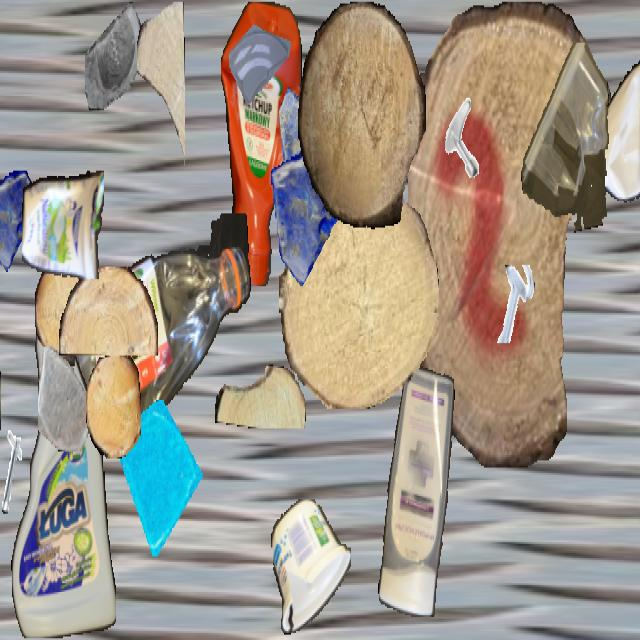glass: (119, 400, 207, 556), (269, 140, 353, 290), (229, 2, 291, 112), (85, 2, 145, 108), (38, 346, 96, 449), (279, 82, 335, 181), (0, 171, 39, 270)
metal: (439, 92, 491, 185), (0, 430, 43, 530), (492, 265, 536, 343)
plastic: (73, 213, 251, 423), (11, 301, 115, 638), (221, 2, 301, 286), (377, 366, 455, 615), (519, 43, 611, 231), (580, 2, 640, 215), (271, 500, 351, 634), (22, 164, 104, 278), (0, 304, 1, 482)
wood: (408, 1, 612, 468), (279, 194, 439, 407), (298, 2, 426, 229), (59, 266, 157, 356), (137, 2, 185, 172), (215, 364, 305, 428), (86, 356, 140, 458), (35, 260, 85, 366)
